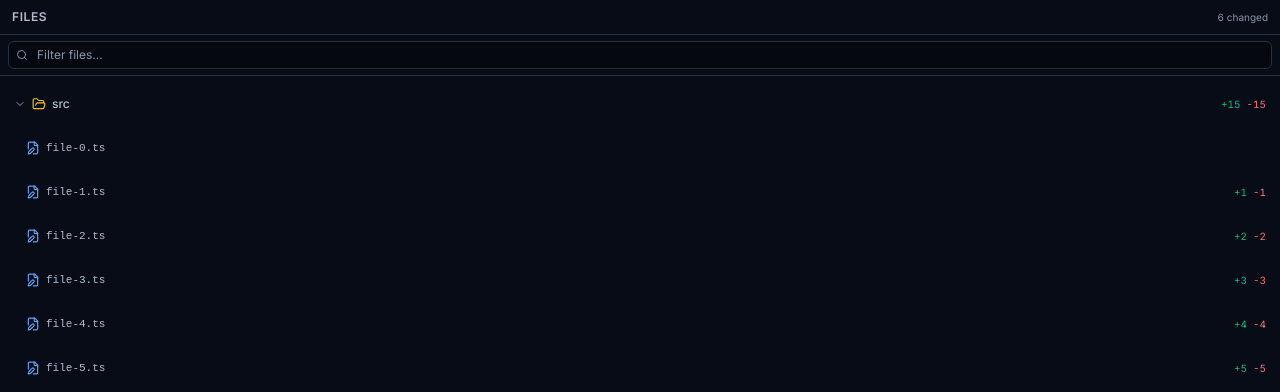
Test: FileTree › Search Filter › should show no results message when filter matches nothing
Type "nonexistent" into the field with placeholder "Filter files...". click: (640, 55)
box: [8, 41, 1272, 69]
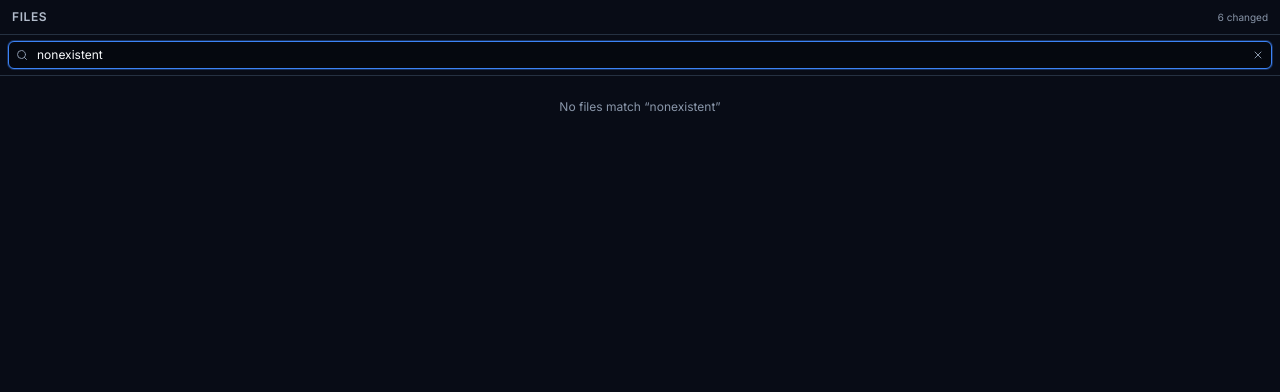
Result: the text "No files match “nonexistent”" is shown at [559, 99, 721, 114]
